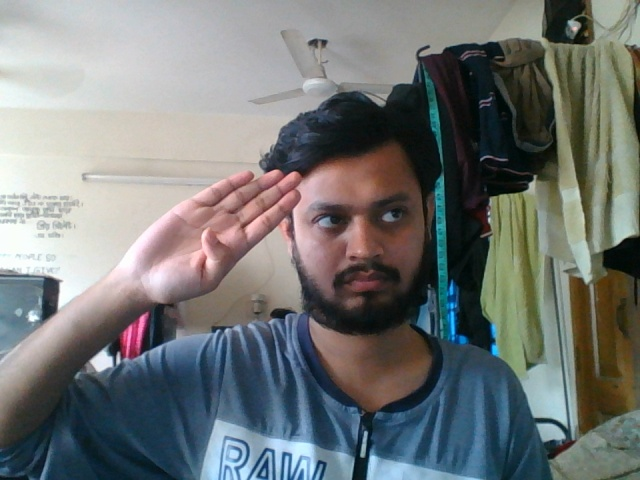salam: (99, 160, 307, 308)
